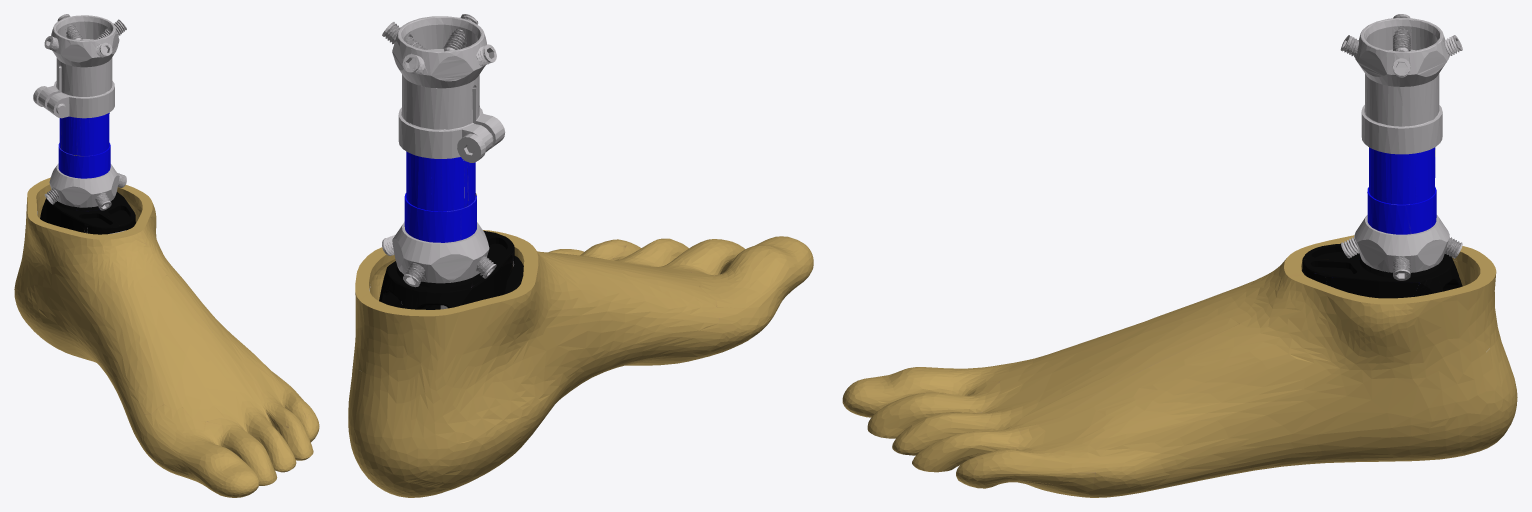
File: Foot-shell-and-pylon-color-smaller.fbx
3 views of the same model, side by side, from view 1: azimuth 30°, elevation 25°; view 2: azimuth 150°, elevation 25°; view 3: azimuth 270°, elevation 25° (orthographic). The views are drawn at different scales.
Parts seen in each view (by area): view 1: node_id31 (×2); view 2: node_id31 (×2); view 3: node_id31 (×2).
Part boxes in pixels (x1,y1,x2,y2): node_id31 (×2): [14, 14, 319, 497]; node_id31 (×2): [348, 14, 813, 497]; node_id31 (×2): [842, 14, 1517, 497].
Size of the model in its own units: 0.2751 by 0.512 by 0.7365.
2 materials, 2 textured.
